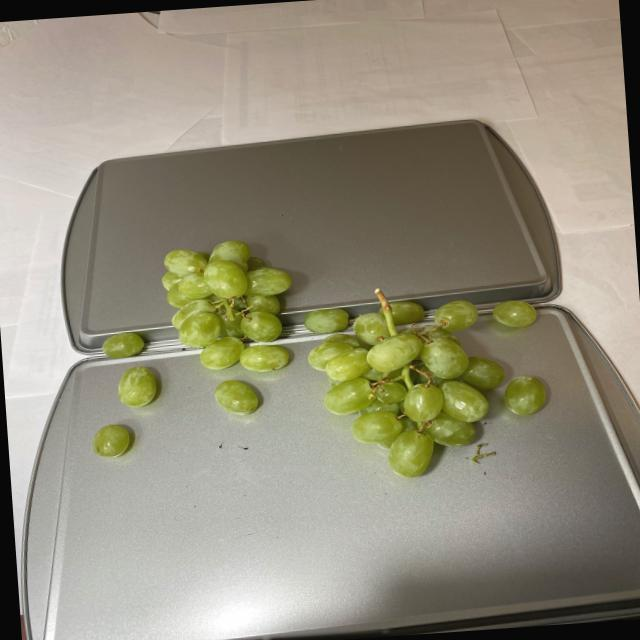grapes: (82, 219, 558, 507)
